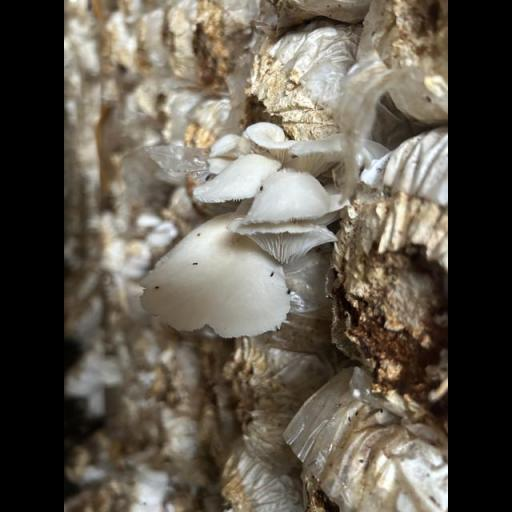White Oyster Mushroom: (106, 101, 378, 345)
